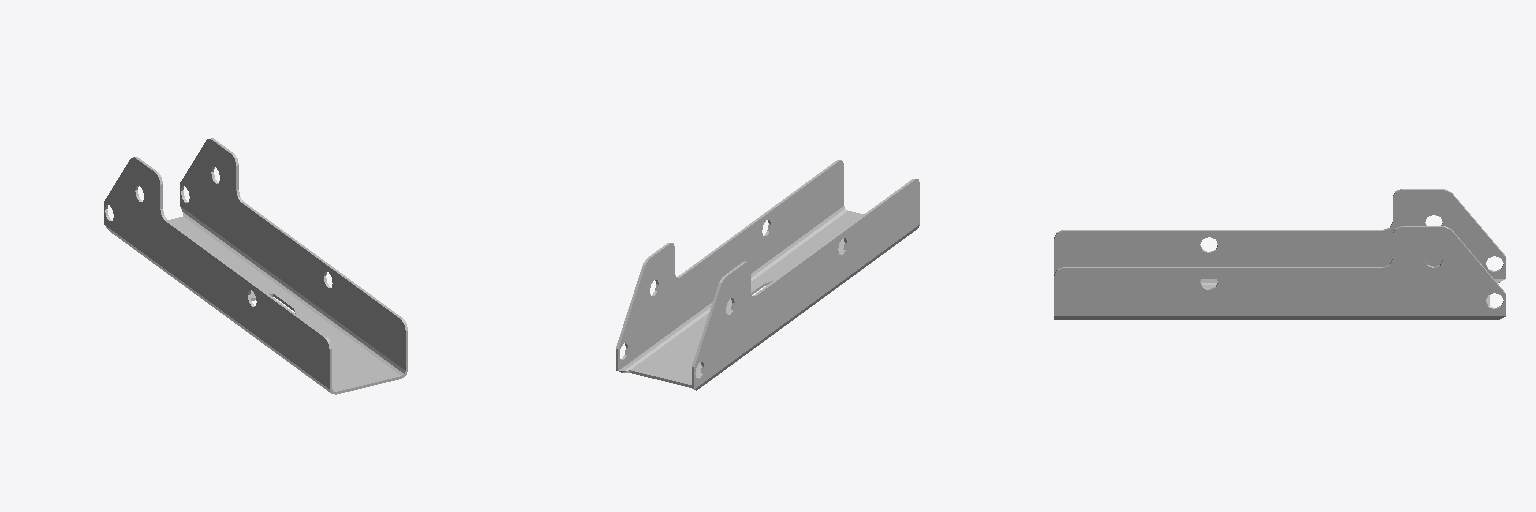
Rendered from Hinge_Wing.obj.
The picture shows the model from 3 angles: view 1: azimuth 30°, elevation 25°; view 2: azimuth 150°, elevation 25°; view 3: azimuth 270°, elevation 25°; orthographic projection.
Parts seen in each view (by area): view 1: _[number redacted]; view 2: _[number redacted]; view 3: _[number redacted].
Boxes of the visible parts, <box> form: _[number redacted]: <box>104,138,407,394</box>; _[number redacted]: <box>616,160,919,390</box>; _[number redacted]: <box>1054,189,1505,319</box>.
Size of the model in its own units: 14.93 by 17.46 by 74.33.